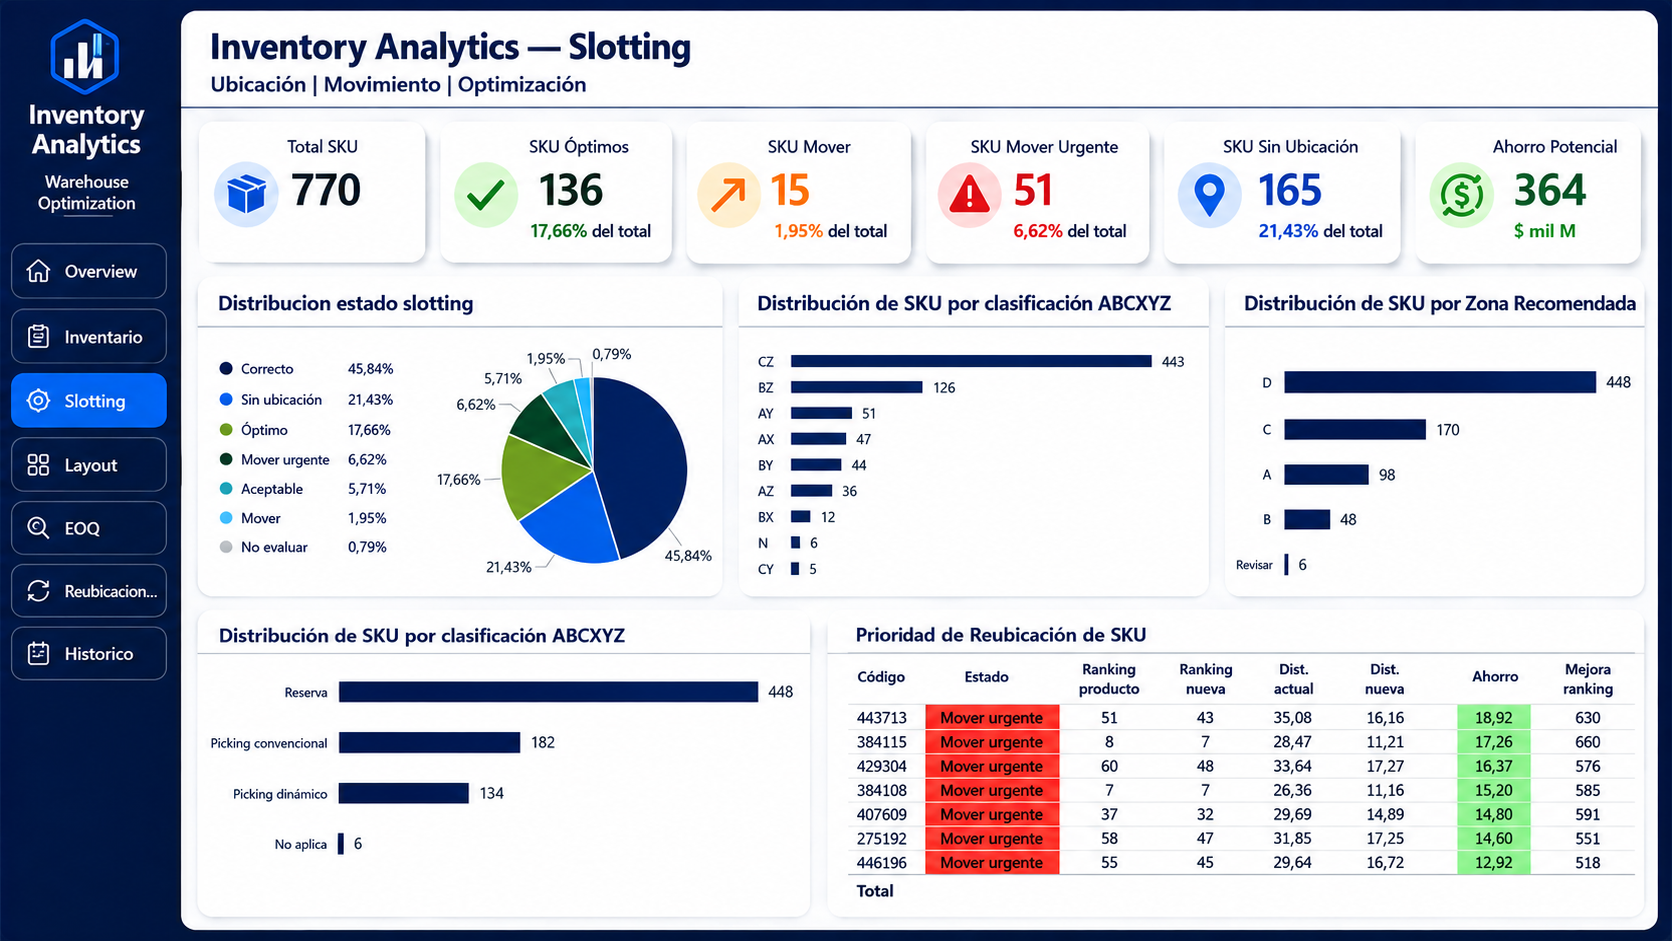

This screenshot's page, from the dashboard's own definition file:
{"tool":"powerbi","page":{"name":"Slotting","canvas":[1920,1080],"ordinal":2},"visuals":[{"type":"group","id":"g1","title":"Grupo 1","box":[0,15.2,1885.1,1036.7],"z":0},{"type":"shape","box":[239.6,15.2,1645.5,1030.9],"z":0,"group":"g1"},{"type":"cardVisual","title":"Total SKU","fields":{"Data":["Medidas.Total SKU"]},"box":[255.5,127.2,200,110],"z":0,"group":"g2"},{"type":"shape","box":[0,25.9,239.8,1026],"z":1000,"group":"g1"},{"type":"cardVisual","title":"SKU Optimos","fields":{"Data":["Medidas.SKU Óptimos"]},"box":[493,127.2,200,110],"z":1000,"group":"g2"},{"type":"pieChart","title":"Distribucion estado slotting","fields":{"Category":["fact_layout.estado_slotting"],"Y":["CountNonNull(fact_layout.codigo)"]},"box":[240,241.4,581,309],"z":1000},{"type":"cardVisual","title":"SKU a Mover","fields":{"Data":["Medidas.SKU Mover"]},"box":[735.5,127.2,200,110],"z":2000,"group":"g2"},{"type":"shape","box":[42.5,200,170,37.5],"z":2000,"group":"g1"},{"type":"barChart","title":"Distribución de SKU por Zona Recomendada","fields":{"Category":["fact_layout.zona_recomendada"],"Y":["Medidas.SKU por Zona"]},"box":[1352.9,241.5,508.6,308.6],"z":2000},{"type":"textbox","box":[28.1,99.4,185.8,118.8],"z":3000,"group":"g1"},{"type":"cardVisual","title":"SKU Mover Urgentes","fields":{"Data":["Medidas.SKU Mover Urgente"]},"box":[983,127.2,240,110],"z":3000,"group":"g2"},{"type":"tableEx","title":"Prioridad de Reubicación de SKU","fields":{"Values":["fact_layout.codigo","fact_layout.estado_slotting","fact_layout.ranking_producto","fact_layout.ranking_ubicacion_nueva","fact_layout.distancia_actual","fact_layout.distancia_nueva","fact_layout.ahorro_distancia","fact_layout.mejora_ranking"]},"box":[1011.3,575.3,850.3,437.9],"z":3000},{"type":"cardVisual","title":"SKU Sin Ubicacion","fields":{"Data":["Medidas.SKU Sin Ubicación"]},"box":[1288,127.2,220,110],"z":4000,"group":"g2"},{"type":"pageNavigator","box":[28.1,237.6,185.8,773.3],"z":4000,"group":"g1"},{"type":"barChart","title":"Distribución de SKU por clasificación ABCXYZ","fields":{"Category":["dim_abcxyz.abcxyz"],"Y":["Medidas.Total SKU ABCXYZ"]},"box":[825.7,241.4,502.9,308.6],"z":4000},{"type":"textbox","box":[256,40,510,75],"z":5000,"group":"g1"},{"type":"group","id":"g2","title":"Grupo 2","box":[255.5,127.2,1605,110],"z":5000},{"type":"cardVisual","title":"Distancia Potencial Ahorrada","fields":{"Data":["Medidas.Ahorro Total Distancia"]},"box":[1540.5,127.2,320,110],"z":5000,"group":"g2"},{"type":"shape","box":[240,105,1640,36],"z":6000,"group":"g1"},{"type":"barChart","title":"Distribución de SKU por clasificación ABCXYZ","fields":{"Category":["dim_producto.tipo_picking"],"Y":["Medidas.Total SKU ABCXYZ"]},"box":[239.6,575.3,744.2,437.9],"z":6000}]}

Visuals, with their boxes on the page's 1920x1080 design canvas (x1, y1, x2, y2). These are canvas units, not pixel positions in the 1672x941 screenshot, which may show the page scaled, cropped or inside an application window:
"Grupo 1" group: region(0, 15, 1885, 1052)
shape: region(240, 15, 1885, 1046)
"Total SKU" cardVisual: region(256, 127, 456, 237)
shape: region(0, 26, 240, 1052)
"SKU Optimos" cardVisual: region(493, 127, 693, 237)
"Distribucion estado slotting" pieChart: region(240, 241, 821, 550)
"SKU a Mover" cardVisual: region(736, 127, 936, 237)
shape: region(42, 200, 212, 238)
"Distribución de SKU por Zona Recomendada" barChart: region(1353, 242, 1862, 550)
textbox: region(28, 99, 214, 218)
"SKU Mover Urgentes" cardVisual: region(983, 127, 1223, 237)
"Prioridad de Reubicación de SKU" tableEx: region(1011, 575, 1862, 1013)
"SKU Sin Ubicacion" cardVisual: region(1288, 127, 1508, 237)
pageNavigator: region(28, 238, 214, 1011)
"Distribución de SKU por clasificación ABCXYZ" barChart: region(826, 241, 1329, 550)
textbox: region(256, 40, 766, 115)
"Grupo 2" group: region(256, 127, 1860, 237)
"Distancia Potencial Ahorrada" cardVisual: region(1540, 127, 1860, 237)
shape: region(240, 105, 1880, 141)
"Distribución de SKU por clasificación ABCXYZ" barChart: region(240, 575, 984, 1013)
